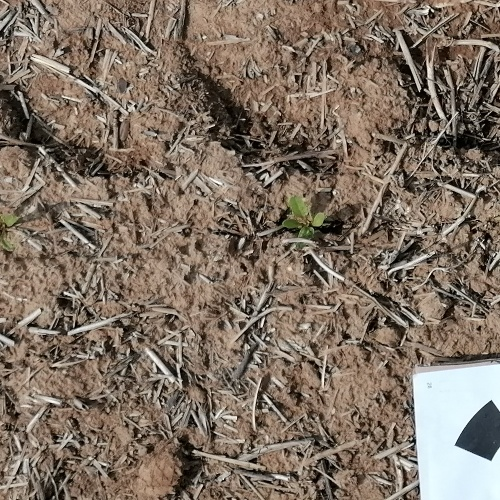beet: (279, 193, 326, 247), (0, 211, 21, 256)
